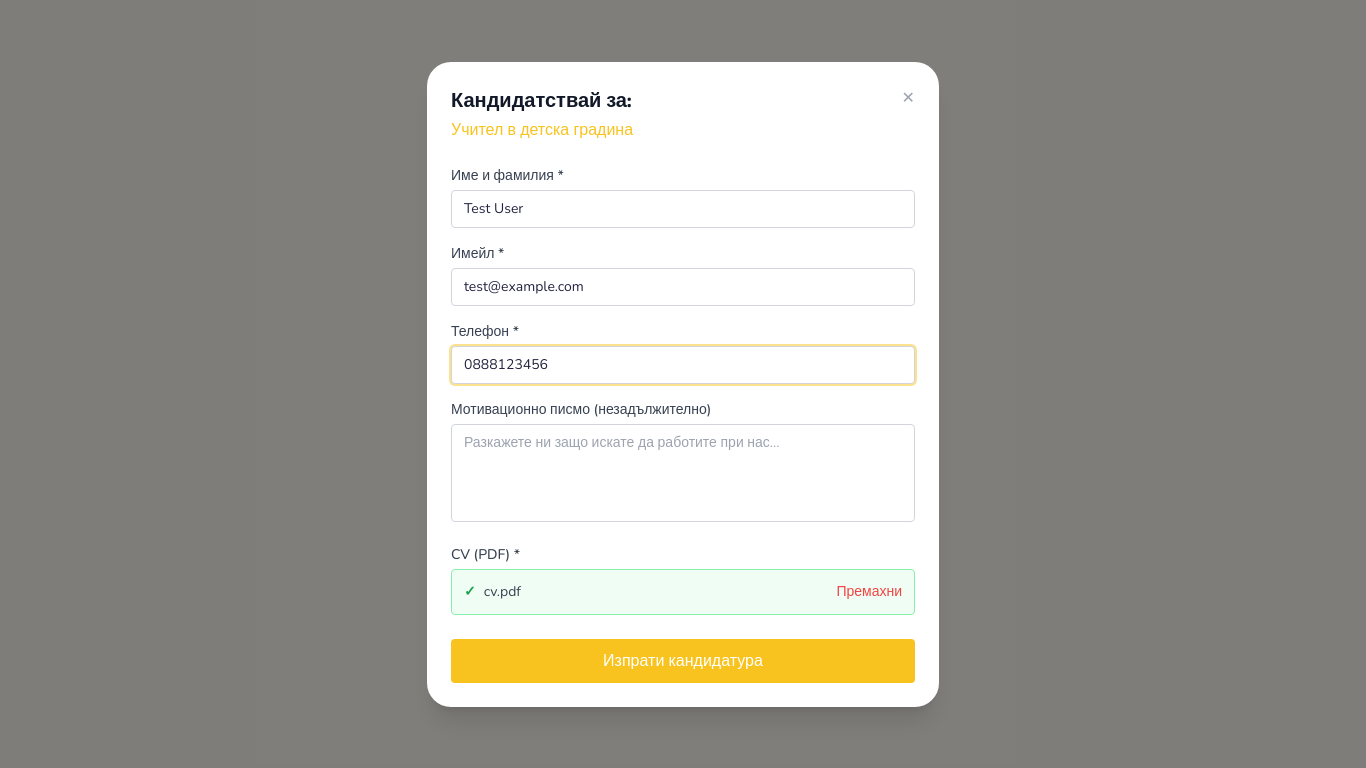
Test: JobApplicationModal › shows 429 rate-limit message in Bulgarian
The image size is (1366, 768).
Earlier steps of the test are not shown.
Click the button "Изпрати кандидатура": (683, 660) [451,638,915,682]
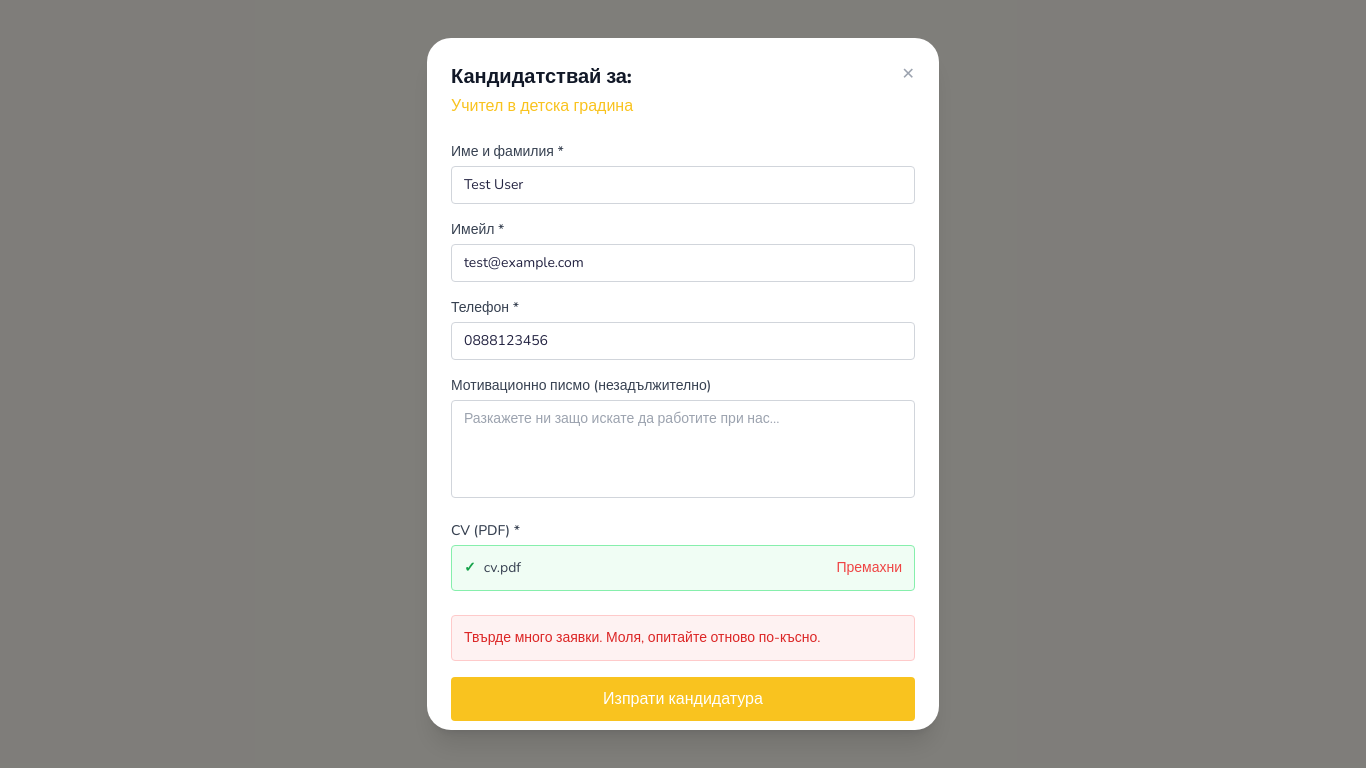
Result: the text "Твърде много заявки. Моля, опитайте отново по-късно." is shown at [451,615,915,661]
